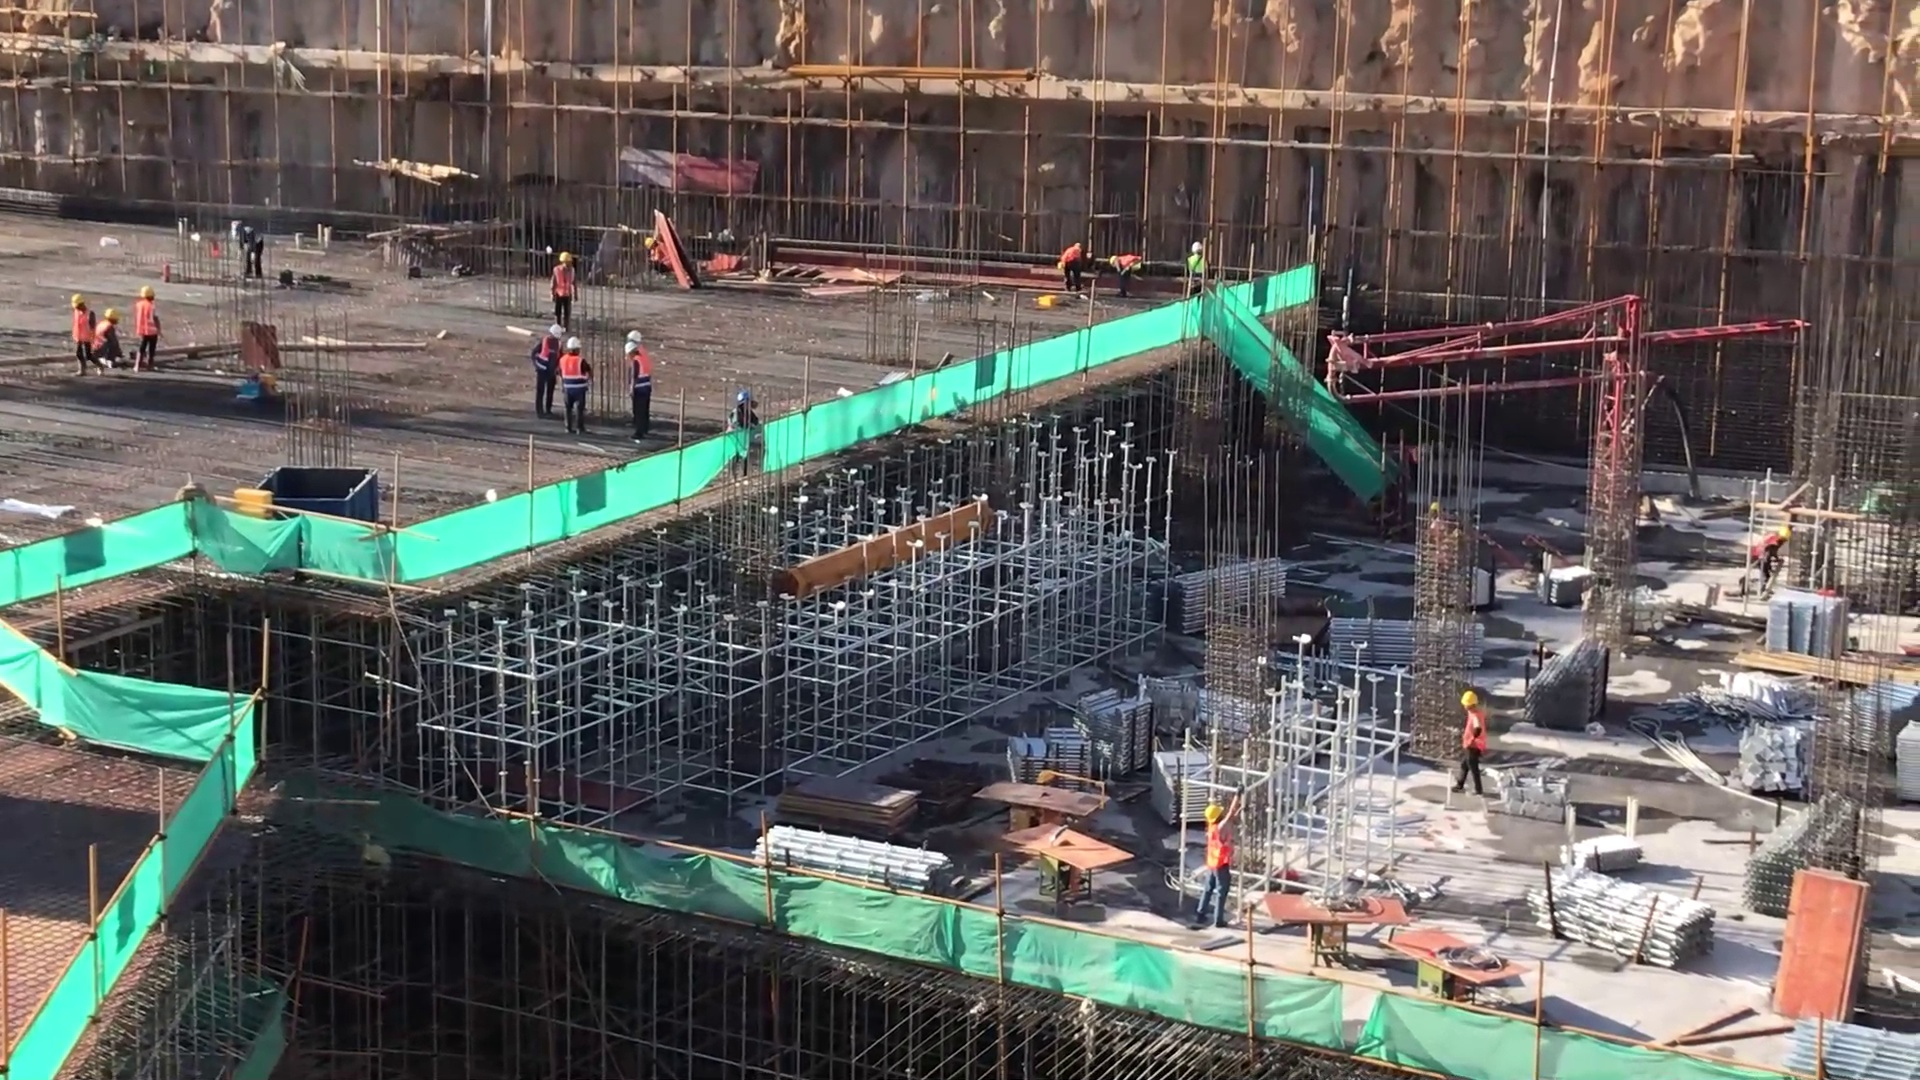board: (1266, 876, 1514, 1005), (1773, 850, 1882, 1046), (982, 756, 1122, 898)
helmet: (1196, 801, 1233, 834), (1457, 691, 1487, 717), (1774, 521, 1799, 545), (733, 384, 755, 410), (624, 324, 643, 348), (70, 291, 91, 311), (134, 283, 156, 303), (102, 304, 120, 324), (569, 337, 585, 357), (639, 235, 657, 254), (226, 219, 245, 236), (557, 248, 574, 265), (548, 325, 565, 343), (623, 341, 639, 358), (1191, 237, 1204, 257)
hopper: (269, 449, 380, 520)
person: (1192, 795, 1247, 936), (1449, 686, 1496, 806), (128, 278, 168, 372), (226, 217, 275, 286), (1742, 522, 1792, 591), (619, 342, 654, 437), (562, 338, 594, 434), (533, 323, 562, 423), (548, 249, 584, 330), (71, 289, 101, 379), (91, 308, 127, 368), (1056, 240, 1090, 293), (1109, 252, 1147, 295), (729, 387, 759, 427), (1188, 241, 1214, 287)
scaffold: (1529, 848, 1699, 979), (728, 805, 928, 911), (1156, 549, 1291, 631), (1330, 604, 1452, 670), (1524, 634, 1604, 726)
vest: (1203, 822, 1230, 868), (622, 354, 651, 394), (557, 355, 587, 393), (1462, 716, 1488, 755), (534, 339, 558, 378), (137, 303, 160, 340), (73, 309, 91, 349), (1118, 256, 1143, 281), (557, 267, 575, 298), (1061, 250, 1080, 274)
wood: (1725, 627, 1920, 711)
